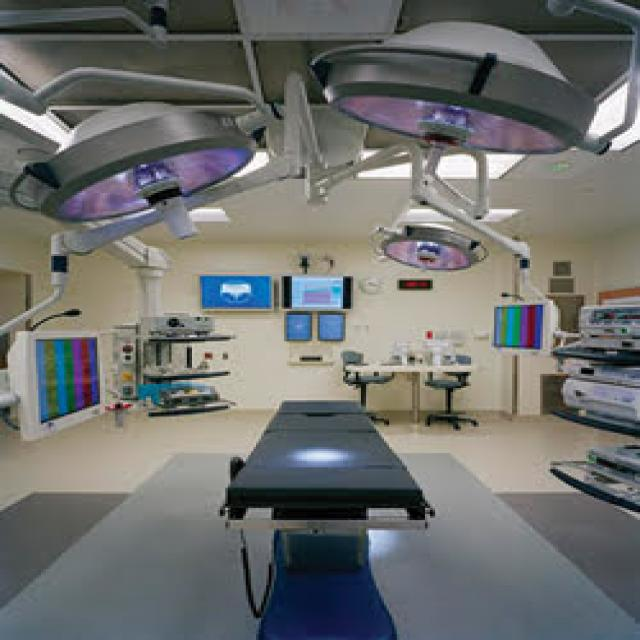lightings: (204, 385, 498, 565), (329, 62, 573, 185), (75, 142, 242, 259), (389, 225, 499, 283)
